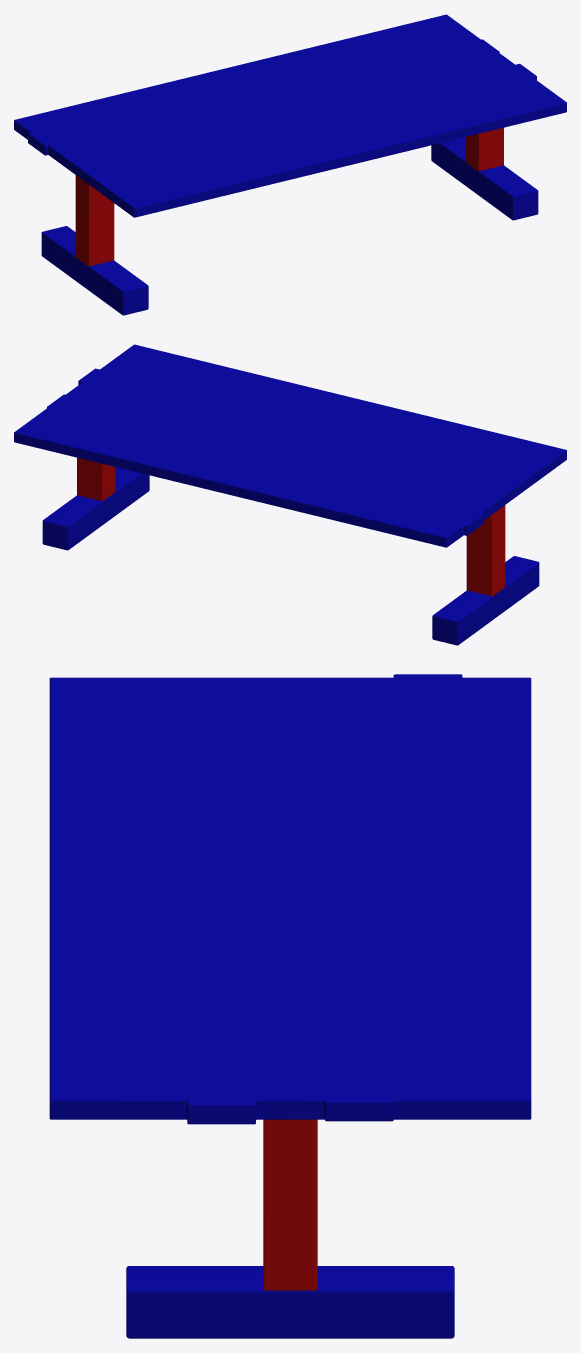
Rendered from Table.fbx.
The picture shows the model from 3 angles, top to bottom: view 1: azimuth 30°, elevation 25°; view 2: azimuth 150°, elevation 25°; view 3: azimuth 270°, elevation 25°; orthographic projection. The views are drawn at different scales.
Parts seen in each view (by area): view 1: L_Leg_Metal1; view 2: L_Leg_Metal1; view 3: L_Leg_Metal1.
Boxes of the visible parts, x1,y1,x2,y2 form: L_Leg_Metal1: (14, 14, 566, 315); L_Leg_Metal1: (14, 344, 566, 645); L_Leg_Metal1: (49, 674, 531, 1338).
Size of the model in its own units: 389 by 105 by 184.
